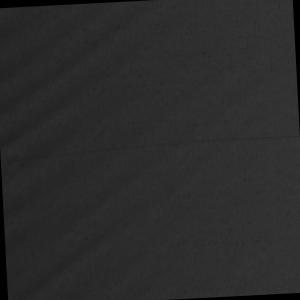Wrinkle: (1, 1, 233, 300)
